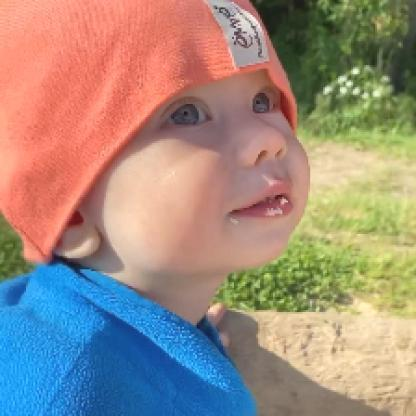child: (1, 1, 313, 415)
